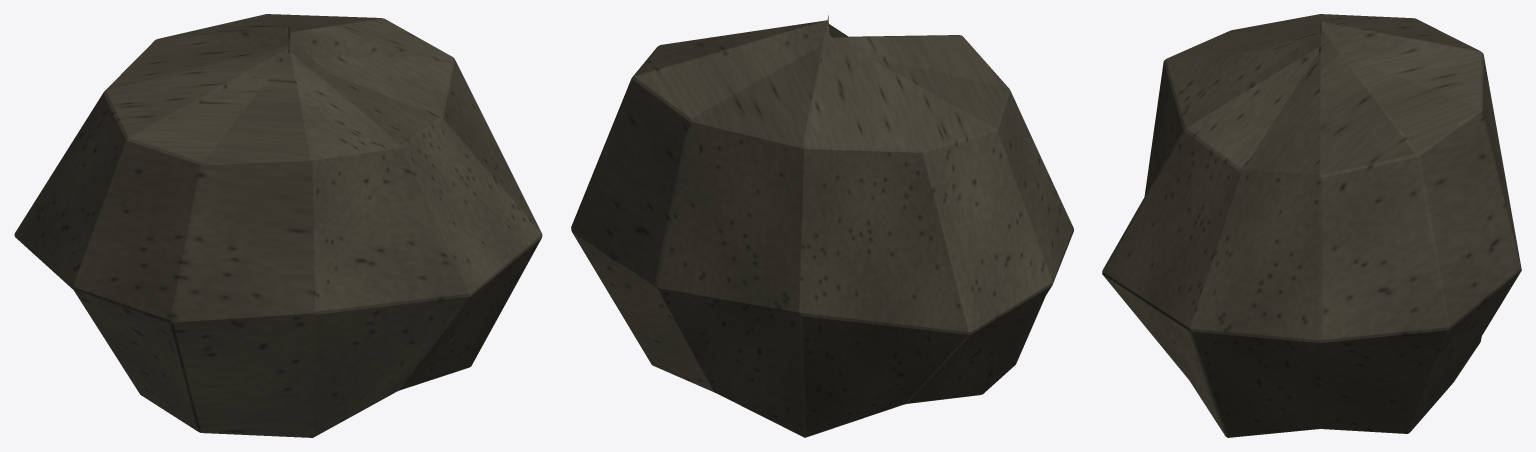
File: PROP-CFF281F9BD5B_lod1.glb
The picture shows the model from 3 angles, left to right: view 1: azimuth 30°, elevation 25°; view 2: azimuth 150°, elevation 25°; view 3: azimuth 270°, elevation 25°; orthographic projection. The views are drawn at different scales.
Parts seen in each view (by area): view 1: rock.001; view 2: rock.001; view 3: rock.001.
Part boxes in pixels (box(x1,y1,x2,y2)): rock.001: box(14, 14, 542, 437); rock.001: box(571, 15, 1073, 437); rock.001: box(1102, 14, 1521, 437).
Bounding box in the file's own units: 1.08 × 0.8205 × 0.8941.
Materials: 1 (1 with a texture image).
